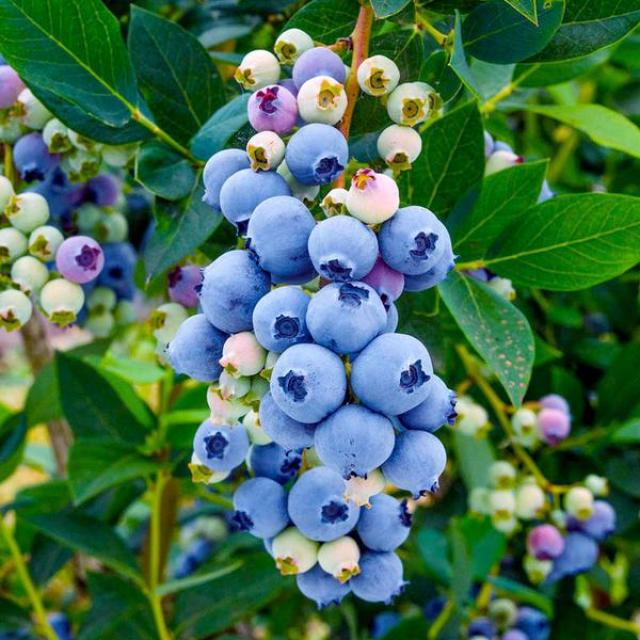BlueBerry - v1: (341, 321, 438, 417), (303, 272, 398, 357), (266, 337, 354, 422), (240, 192, 320, 282), (192, 244, 273, 332), (311, 399, 400, 476), (301, 208, 384, 288), (159, 305, 235, 389), (286, 463, 364, 541), (216, 161, 291, 235), (376, 198, 446, 276), (281, 115, 355, 186), (400, 367, 470, 442), (226, 469, 296, 544), (251, 387, 321, 458), (384, 422, 447, 500), (253, 277, 318, 352), (349, 486, 415, 558), (343, 544, 412, 611), (178, 416, 255, 476), (196, 139, 254, 211), (290, 561, 356, 617), (344, 163, 403, 225), (256, 522, 321, 578), (239, 79, 302, 136), (544, 528, 602, 589), (48, 229, 107, 288), (244, 441, 310, 492), (291, 43, 351, 99), (292, 70, 352, 126), (211, 325, 268, 381), (9, 128, 58, 190), (3, 246, 56, 302), (306, 529, 363, 581), (37, 275, 91, 329), (372, 120, 425, 174), (483, 124, 530, 181), (233, 42, 286, 92), (356, 47, 400, 101), (15, 81, 58, 134), (245, 127, 292, 175), (4, 188, 51, 235), (387, 81, 431, 130), (483, 451, 528, 496), (532, 401, 575, 448), (64, 138, 106, 186), (207, 363, 254, 404), (0, 287, 38, 337), (23, 222, 68, 264), (271, 25, 312, 68), (525, 518, 568, 557), (480, 591, 521, 631), (39, 115, 76, 158), (559, 481, 598, 521), (506, 400, 546, 438), (510, 480, 546, 522), (0, 222, 30, 271), (584, 499, 618, 538), (486, 489, 518, 524), (512, 612, 551, 640)
